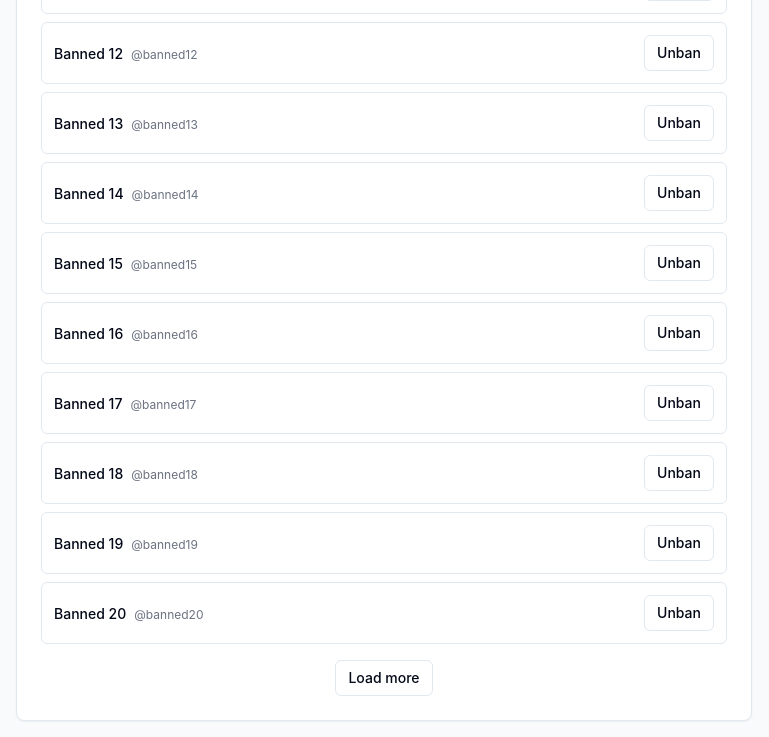
banned members section — pagination › a member that lands on two pages (offset paging shifts rows) is shown once
(page scrolled)
Click the button "Load more" at (384, 678), box [335,660,432,696]
(page scrolled)
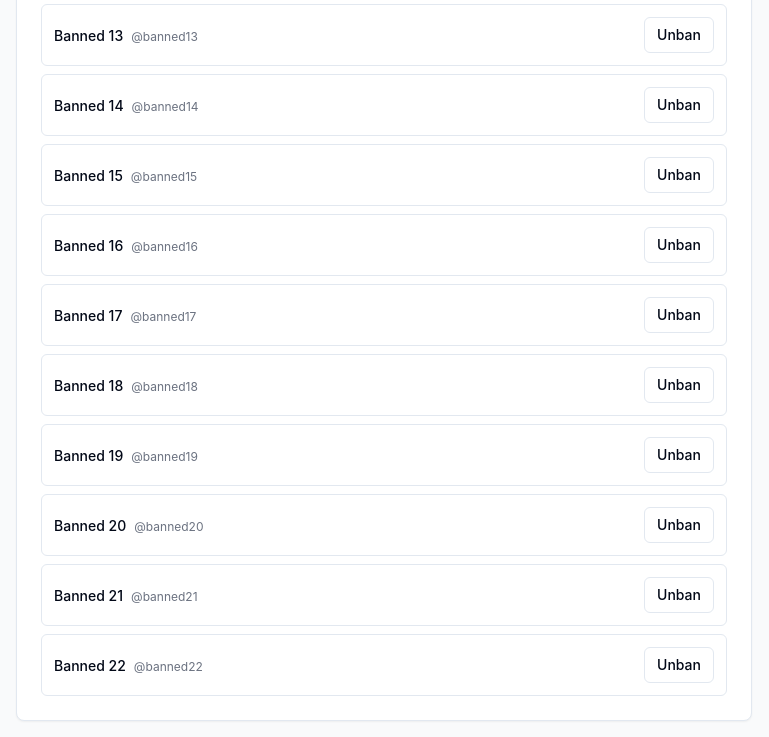
Check: the text "Banned 22" is shown, box [54,657,126,674]
Check: the text "Banned 20" is shown once, box [54,517,126,534]
